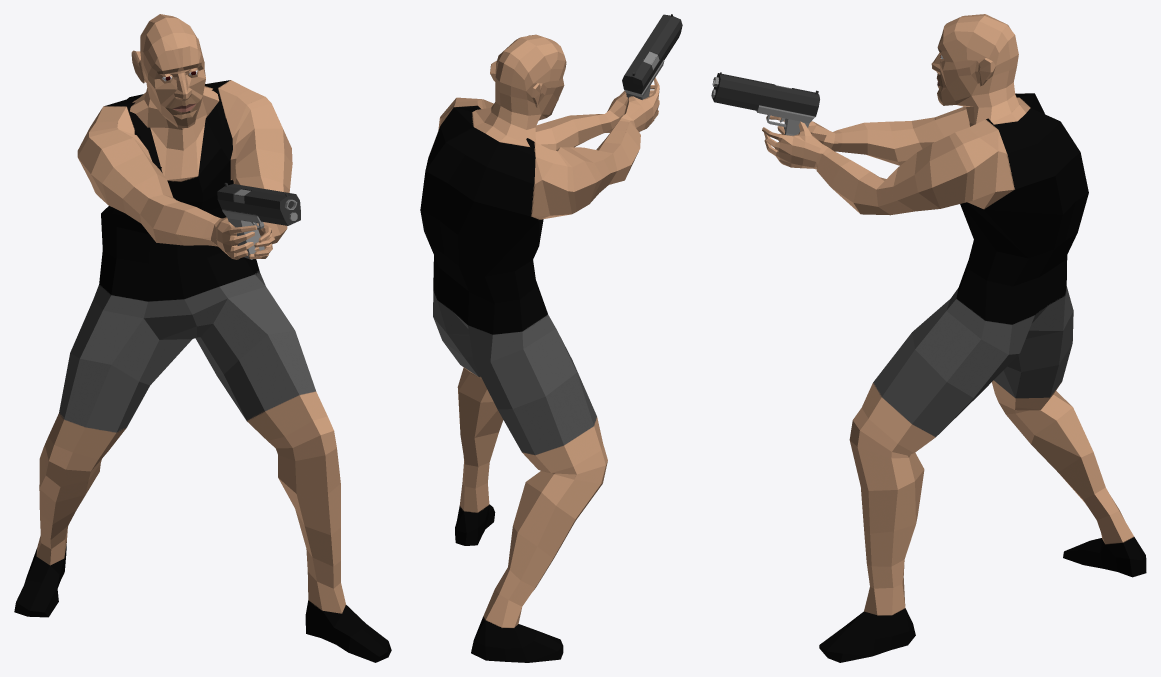
The model's file is PlayerShoot(13).obj.
The picture shows the model from 3 angles, left to right: view 1: azimuth 30°, elevation 25°; view 2: azimuth 150°, elevation 25°; view 3: azimuth 270°, elevation 25°; orthographic projection. The views are drawn at different scales.
Parts seen in each view (by area): view 1: Plane002, Box003; view 2: Plane002, Box003; view 3: Plane002, Box003.
Boxes of the visible parts, box(x1,y1,x2,y2) form: Plane002: box(14, 14, 391, 662); Box003: box(217, 183, 300, 259); Plane002: box(420, 34, 659, 662); Box003: box(622, 14, 682, 99); Plane002: box(762, 14, 1146, 662); Box003: box(711, 72, 819, 141).
Bounding box in the file's own units: 717 × 1674 × 1141.
